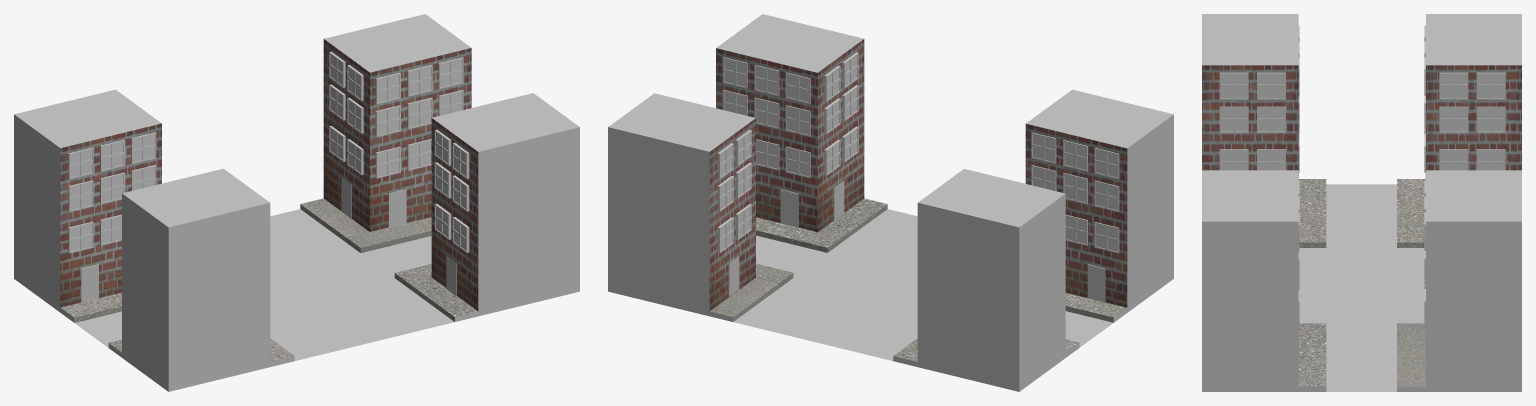
Rendered from ruev2.fbx.
3 views of the same model, side by side, from view 1: azimuth 30°, elevation 25°; view 2: azimuth 150°, elevation 25°; view 3: azimuth 270°, elevation 25° (orthographic). The views are drawn at different scales.
Visible parts, largest first — view 1: Plane.001, Cube.010, Cube.008; view 2: Plane.001, Cube.007, Cube.004; view 3: Plane.001.
Boxes of the visible parts, x1,y1,x2,y2 form: Plane.001: (14,14,579,391); Cube.010: (388,189,406,227); Cube.008: (81,264,98,302); Plane.001: (608,14,1173,391); Cube.007: (1087,264,1105,302); Cube.004: (780,189,798,227); Plane.001: (1202,14,1521,391).
Bounding box in the file's own units: 1690 × 646 × 1100.
